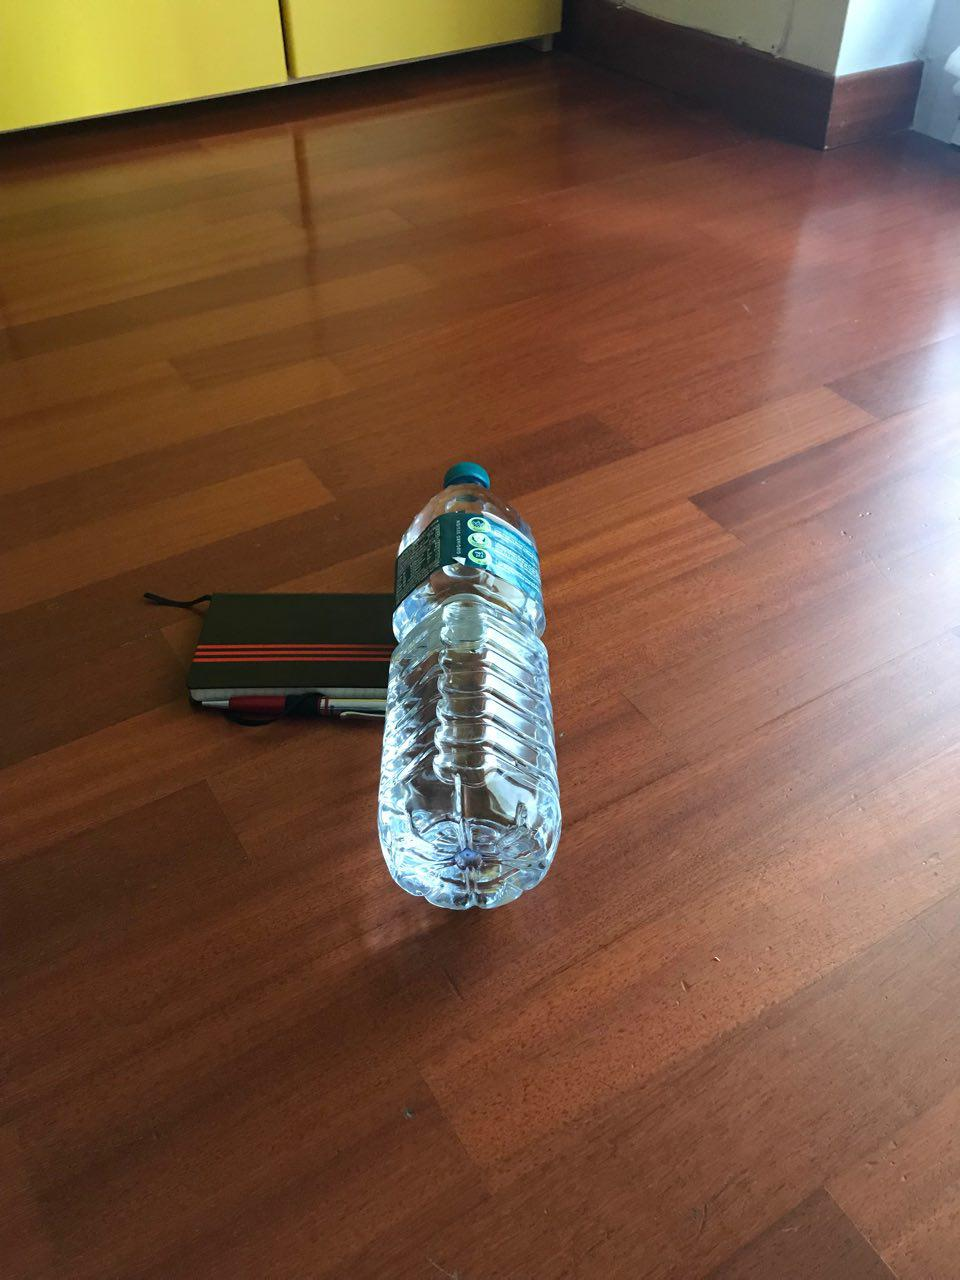san_bernardo: (375, 460, 566, 913)
